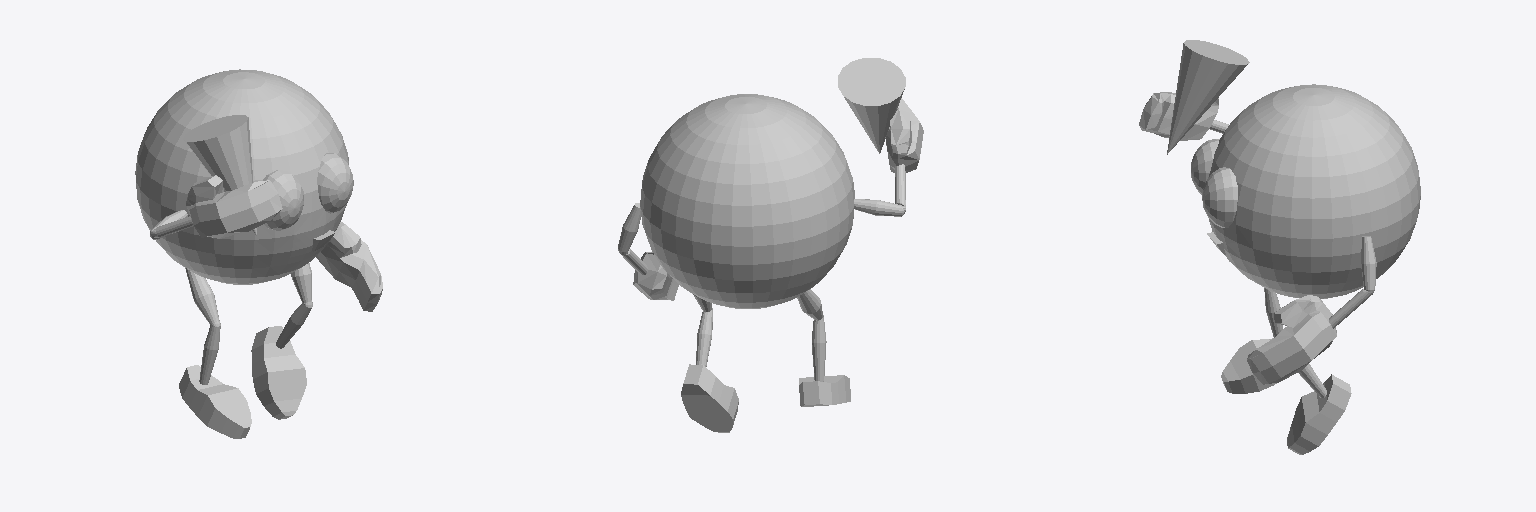
The model's file is runToStand_000043.obj.
3 views of the same model, side by side, from view 1: azimuth 30°, elevation 25°; view 2: azimuth 150°, elevation 25°; view 3: azimuth 270°, elevation 25° (orthographic).
Parts seen in each view (by area): view 1: Rusko_Sphere; view 2: Rusko_Sphere; view 3: Rusko_Sphere.
Boxes of the visible parts, x1=… form: Rusko_Sphere: x1=135, y1=69, x2=382, y2=438; Rusko_Sphere: x1=618, y1=58, x2=923, y2=432; Rusko_Sphere: x1=1139, y1=40, x2=1420, y2=454.
Size of the model in its own units: 5.2 by 7.34 by 5.24.